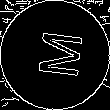M_W: (27, 29, 83, 81)
